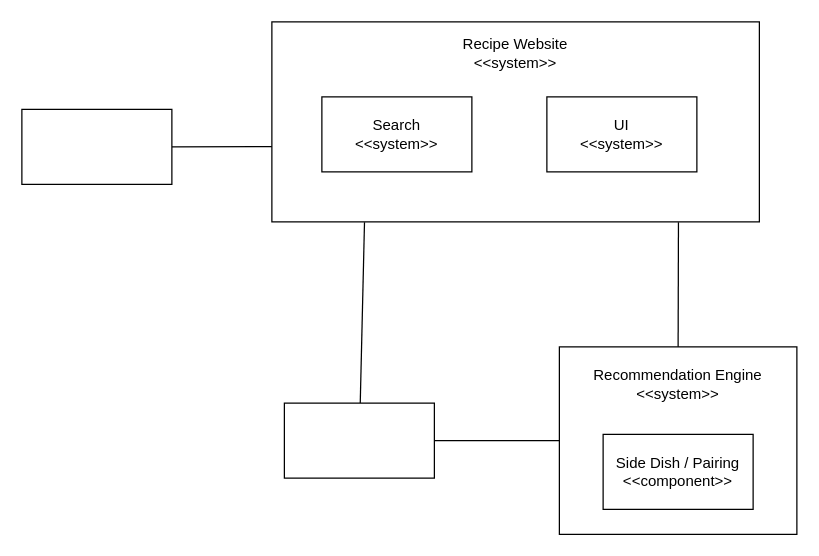
The diagram is 819 pixels wide and 556 high, and some of its shapes have lost their labels. Each missing label, with the box of its shape:
Authentication <<system>>: (21, 108, 172, 184)
Database <<system>>: (283, 402, 434, 478)
